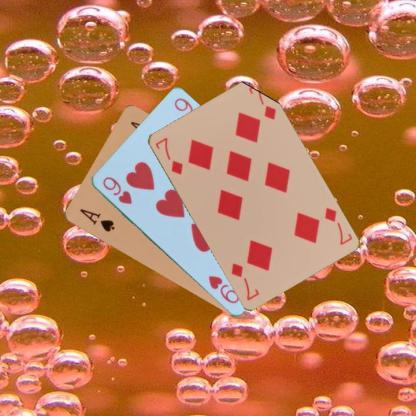7d: (321, 204, 353, 247), (152, 135, 184, 176)
9h: (99, 174, 133, 206)
As: (76, 206, 116, 234)
